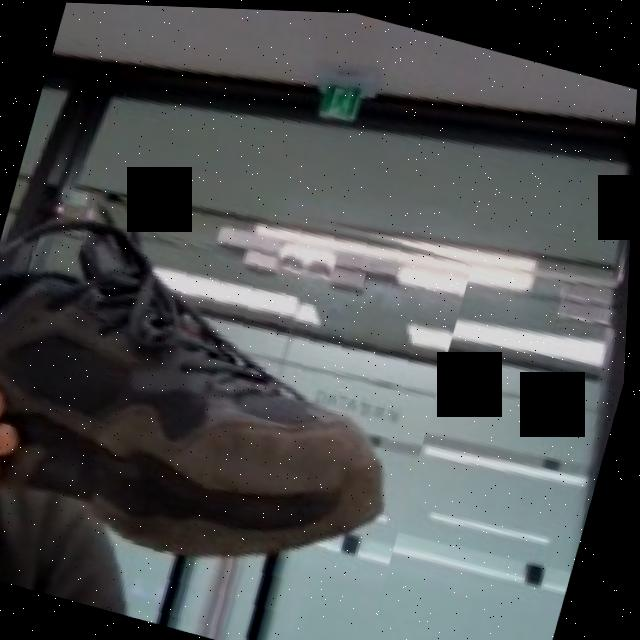shoe: (0, 129, 481, 640)
